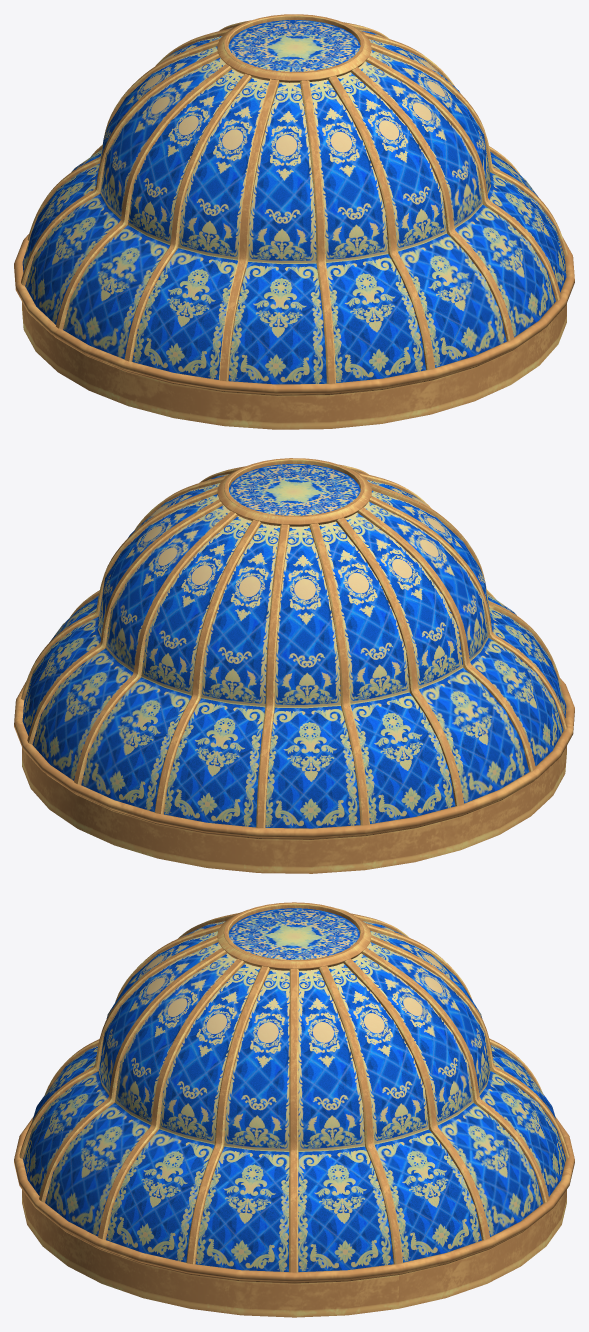
Rendered from SM_Dome_03.fbx.
The picture shows the model from 3 angles, top to bottom: view 1: azimuth 30°, elevation 25°; view 2: azimuth 150°, elevation 25°; view 3: azimuth 270°, elevation 25°; orthographic projection.
Visible parts, largest first — view 1: SM_Dome_03_LOD0; view 2: SM_Dome_03_LOD0; view 3: SM_Dome_03_LOD0.
Boxes of the visible parts, left/top/right/bottom form: SM_Dome_03_LOD0: left=14, top=14, right=574, bottom=429; SM_Dome_03_LOD0: left=14, top=458, right=574, bottom=873; SM_Dome_03_LOD0: left=14, top=902, right=574, bottom=1317.
Size of the model in its own units: 733 by 733 by 390.
Materials: 1 (1 with a texture image).
